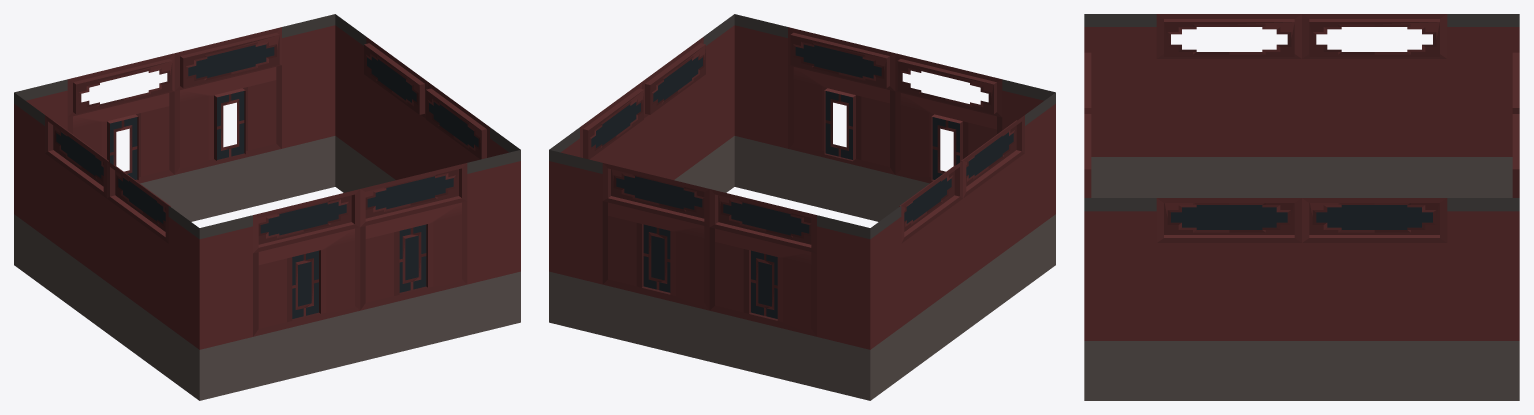
The model's file is StackA-Sm_A.fbx.
The picture shows the model from 3 angles, left to right: view 1: azimuth 30°, elevation 25°; view 2: azimuth 150°, elevation 25°; view 3: azimuth 270°, elevation 25°; orthographic projection. The views are drawn at different scales.
Parts seen in each view (by area): view 1: StackA-Sm_A; view 2: StackA-Sm_A; view 3: StackA-Sm_A.
Boxes of the visible parts, x1,y1,x2,y2 form: StackA-Sm_A: (14,14,520,400); StackA-Sm_A: (549,14,1055,400); StackA-Sm_A: (1084,14,1519,400).
Bounding box in the file's own units: 750 × 386 × 750.
